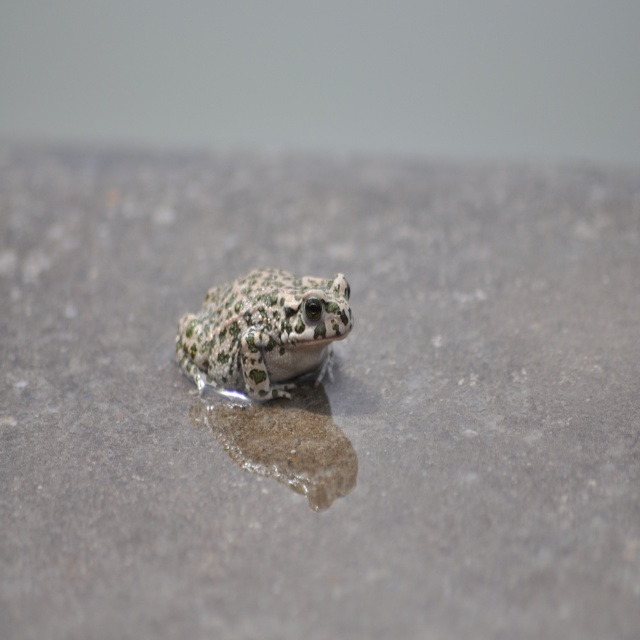Frog: (174, 273, 352, 399)
